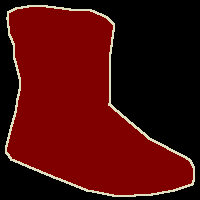shoe: (6, 6, 194, 196)
